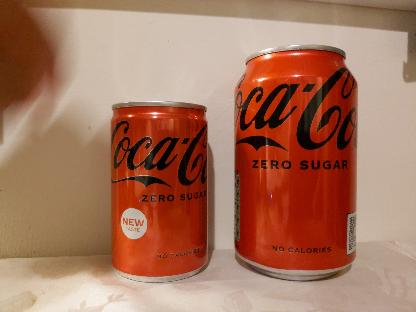Can: (233, 45, 359, 282), (110, 101, 210, 283)
